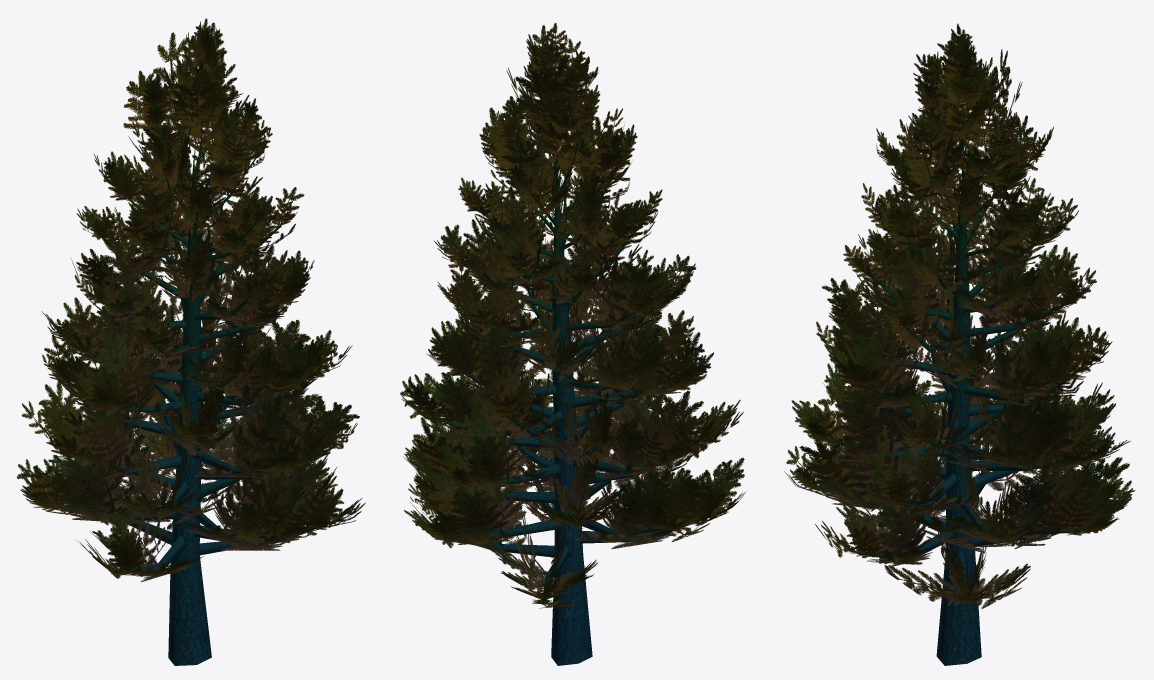
File: Picea_Abies_A.glb
The picture shows the model from 3 angles, left to right: view 1: azimuth 30°, elevation 25°; view 2: azimuth 150°, elevation 25°; view 3: azimuth 270°, elevation 25°; orthographic projection.
Parts seen in each view (by area): view 1: A_LOD0; view 2: A_LOD0; view 3: A_LOD0.
Boxes of the visible parts, bbox=[...] form: A_LOD0: bbox=[16, 18, 365, 665]; A_LOD0: bbox=[400, 23, 746, 665]; A_LOD0: bbox=[784, 23, 1135, 665].
Size of what is drawn, in the model's own units: 8.39 by 16.27 by 8.17.
2 materials, 2 textured.
